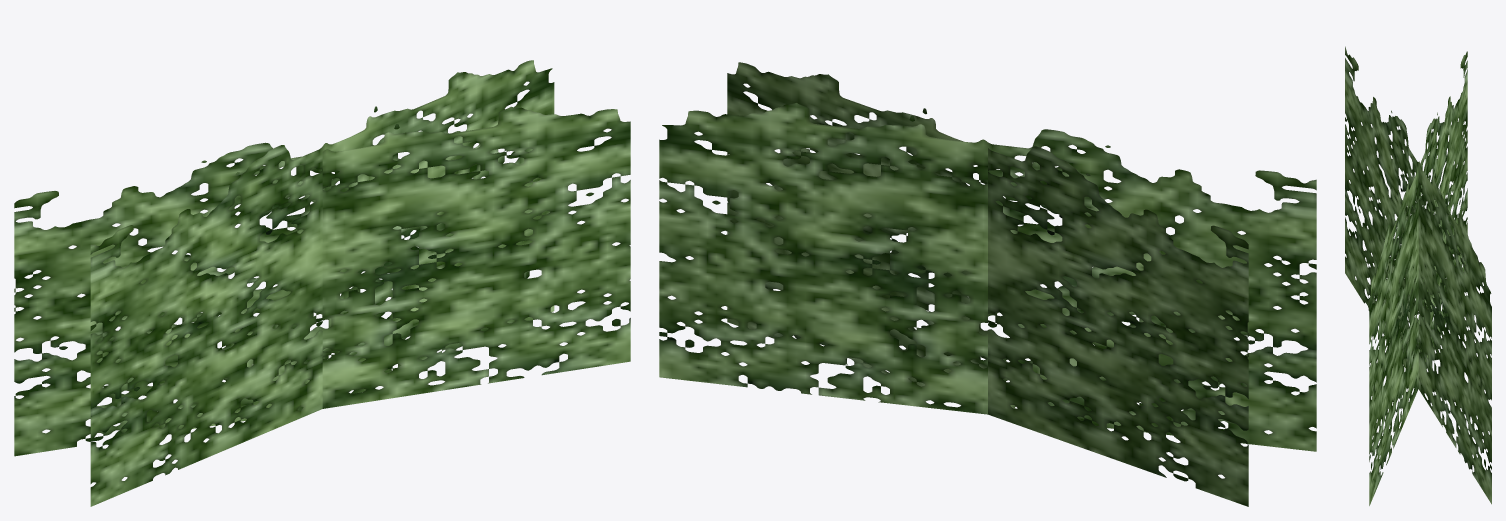
Rendered from bush_long_overgrown_summer.fbx.
3 views of the same model, side by side, from view 1: azimuth 30°, elevation 25°; view 2: azimuth 150°, elevation 25°; view 3: azimuth 270°, elevation 25° (orthographic). The views are drawn at different scales.
Visible parts, largest first — view 1: bush_long_overgrown_summer; view 2: bush_long_overgrown_summer; view 3: bush_long_overgrown_summer.
Boxes of the visible parts, x1,y1,x2,y2 form: bush_long_overgrown_summer: (14, 60, 630, 506); bush_long_overgrown_summer: (659, 62, 1316, 506); bush_long_overgrown_summer: (1345, 46, 1491, 505).
Size of the model in its own units: 209 by 106 by 54.93.
Materials: 1 (1 with a texture image).
